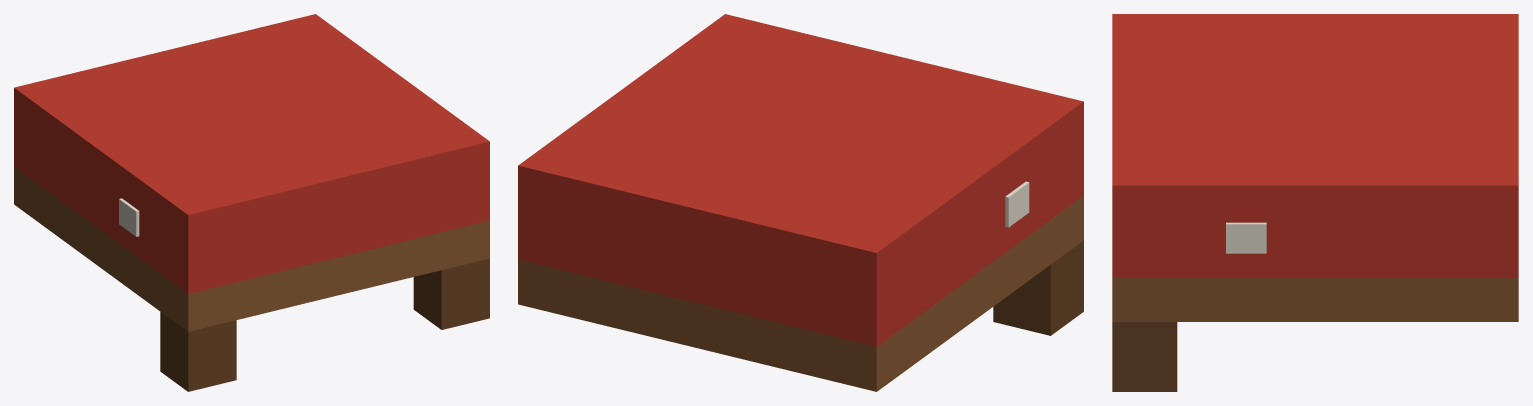
Rendered from bed_foot.glb.
3 renders of one model, left to right at view 1: azimuth 30°, elevation 25°; view 2: azimuth 150°, elevation 25°; view 3: azimuth 270°, elevation 25°, orthographic. The views are drawn at different scales.
Visible parts, largest first — view 1: body; view 2: body; view 3: body.
Part boxes in pixels (x1=…): body: x1=14, y1=14, x2=489, y2=391; body: x1=518, y1=14, x2=1083, y2=391; body: x1=1112, y1=14, x2=1518, y2=391.
Size of the model in its own units: 1.02 by 0.56 by 1.
